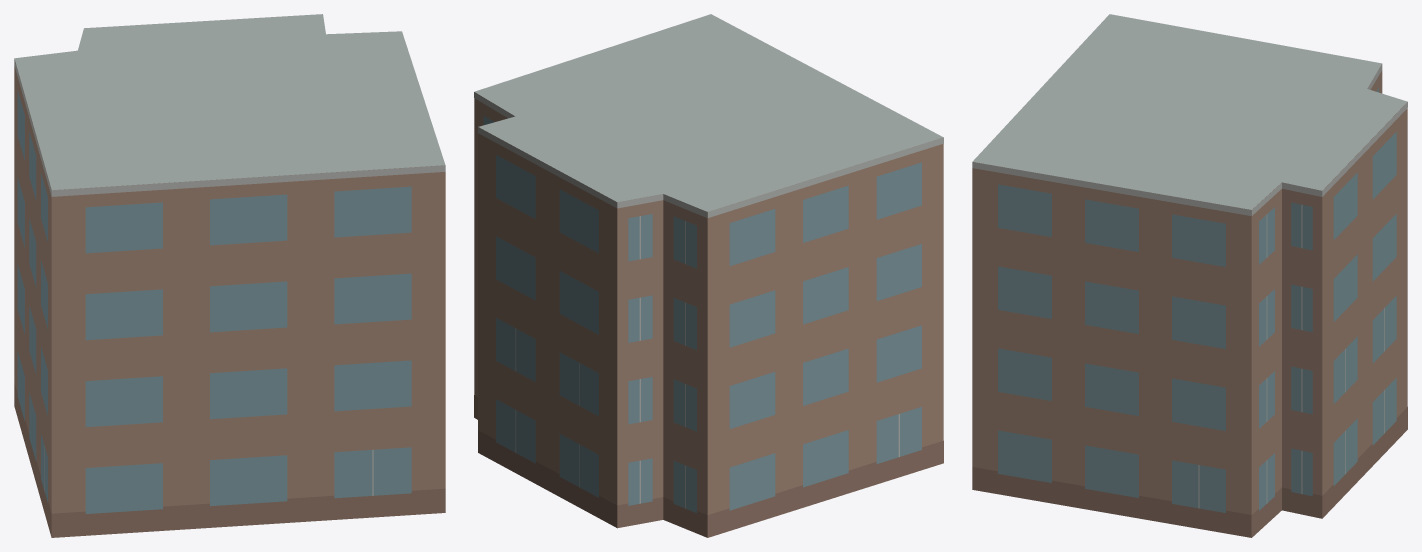
Rendered from survey-upis-33021180.glb.
3 views of the same model, side by side, from view 1: azimuth 30°, elevation 25°; view 2: azimuth 150°, elevation 25°; view 3: azimuth 270°, elevation 25° (orthographic). The views are drawn at different scales.
Parts seen in each view (by area): view 1: survey-upis-33021180.tmp; view 2: survey-upis-33021180.tmp; view 3: survey-upis-33021180.tmp.
Boxes of the visible parts, <box> form: survey-upis-33021180.tmp: <box>14,14,445,537</box>; survey-upis-33021180.tmp: <box>474,14,943,537</box>; survey-upis-33021180.tmp: <box>972,14,1407,537</box>.
Size of the model in its own units: 16.41 by 12.8 by 15.41.
